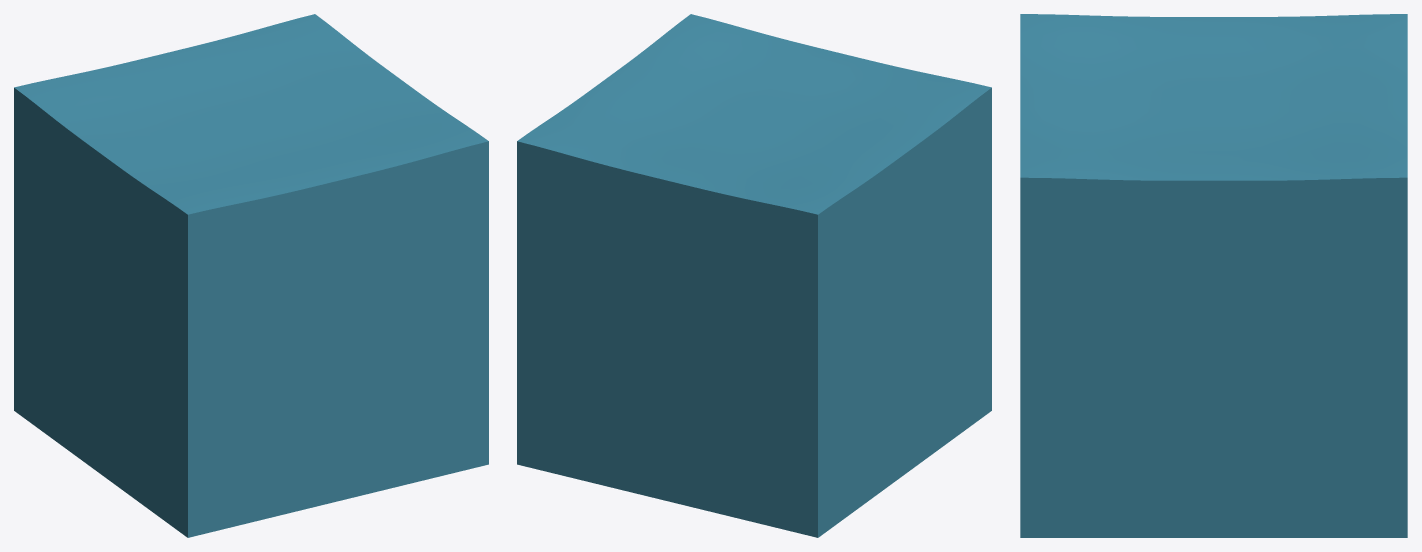
The model's file is slpool_wave35.glb.
The picture shows the model from 3 angles, left to right: view 1: azimuth 30°, elevation 25°; view 2: azimuth 150°, elevation 25°; view 3: azimuth 270°, elevation 25°; orthographic projection. The views are drawn at different scales.
Visible parts, largest first — view 1: poolWater; view 2: poolWater; view 3: poolWater.
Boxes of the visible parts, <box> form: poolWater: <box>14,14,488,537</box>; poolWater: <box>517,14,991,537</box>; poolWater: <box>1020,14,1407,537</box>.
Size of the model in its own units: 2 by 2.05 by 2.
